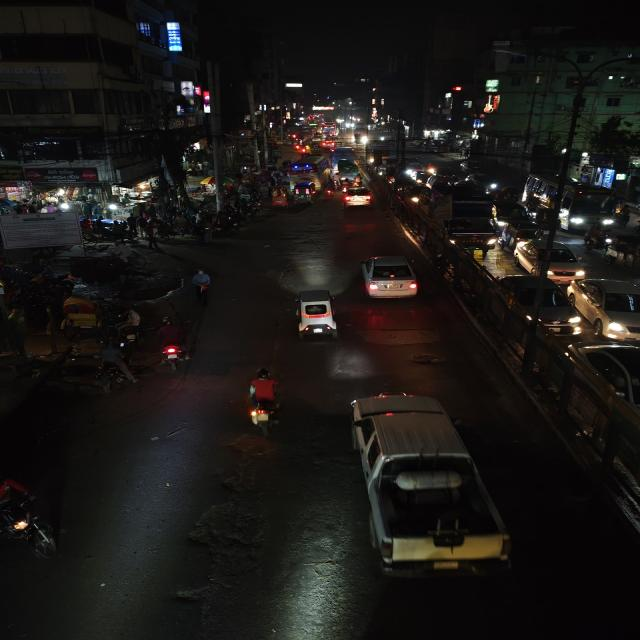bus: (522, 173, 620, 230), (288, 155, 327, 193)
car: (337, 386, 512, 584), (561, 339, 640, 459), (494, 272, 583, 338), (571, 276, 640, 340), (356, 254, 421, 302), (514, 236, 587, 278), (338, 186, 374, 210)
cng: (288, 286, 344, 344), (604, 232, 640, 276), (582, 222, 612, 252), (292, 183, 314, 206)
motorcycle: (242, 365, 286, 435), (152, 315, 199, 373), (323, 180, 336, 199)
pedestrian: (190, 268, 214, 304), (193, 225, 212, 246)
rickshaw: (58, 294, 118, 346), (270, 188, 288, 209)
truck: (421, 181, 498, 251), (329, 145, 359, 178)
